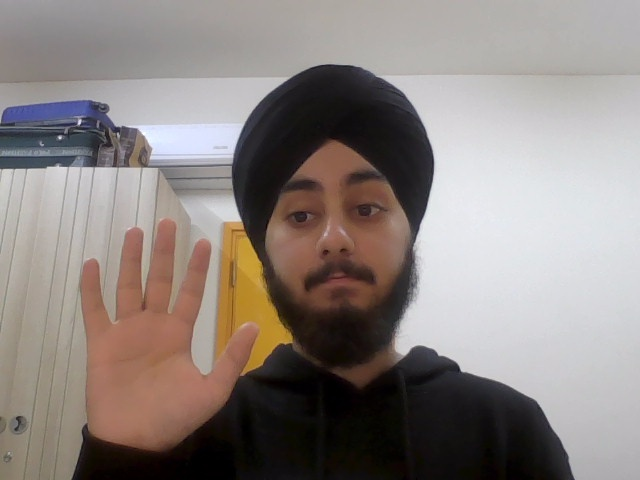Hello: (79, 215, 258, 449)
